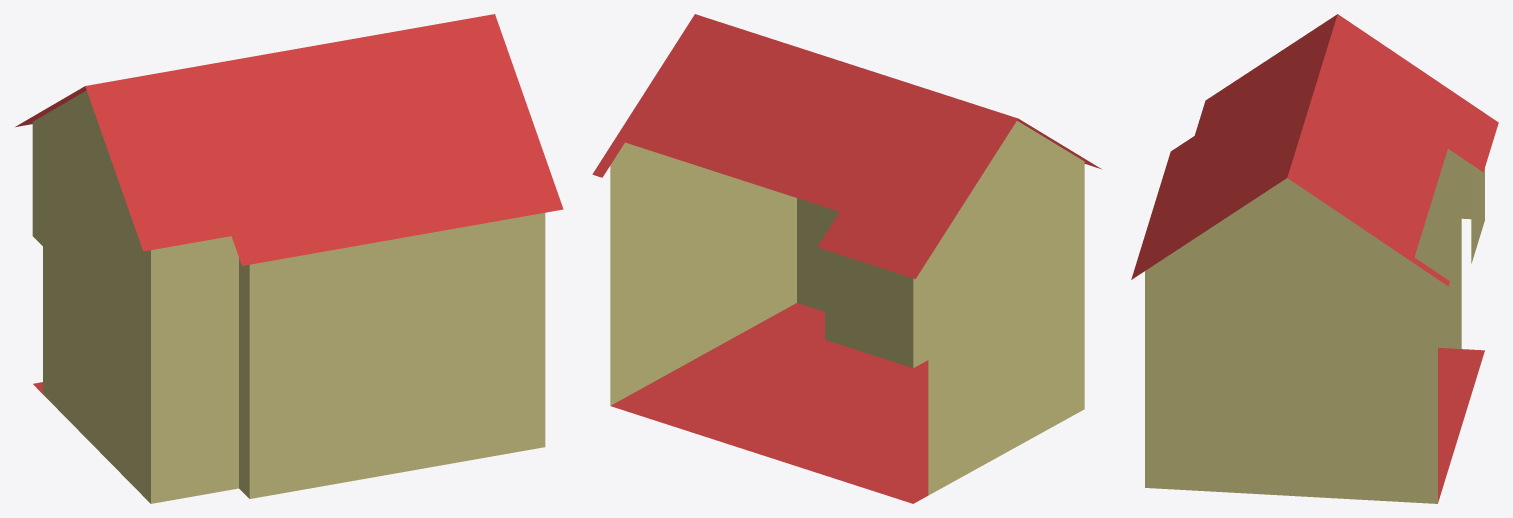
The picture shows the model from 3 angles, left to right: view 1: azimuth 30°, elevation 25°; view 2: azimuth 150°, elevation 25°; view 3: azimuth 270°, elevation 25°; orthographic projection. The views are drawn at different scales.
Bounding box in the file's own units: 17.34 × 14.97 × 14.51.
